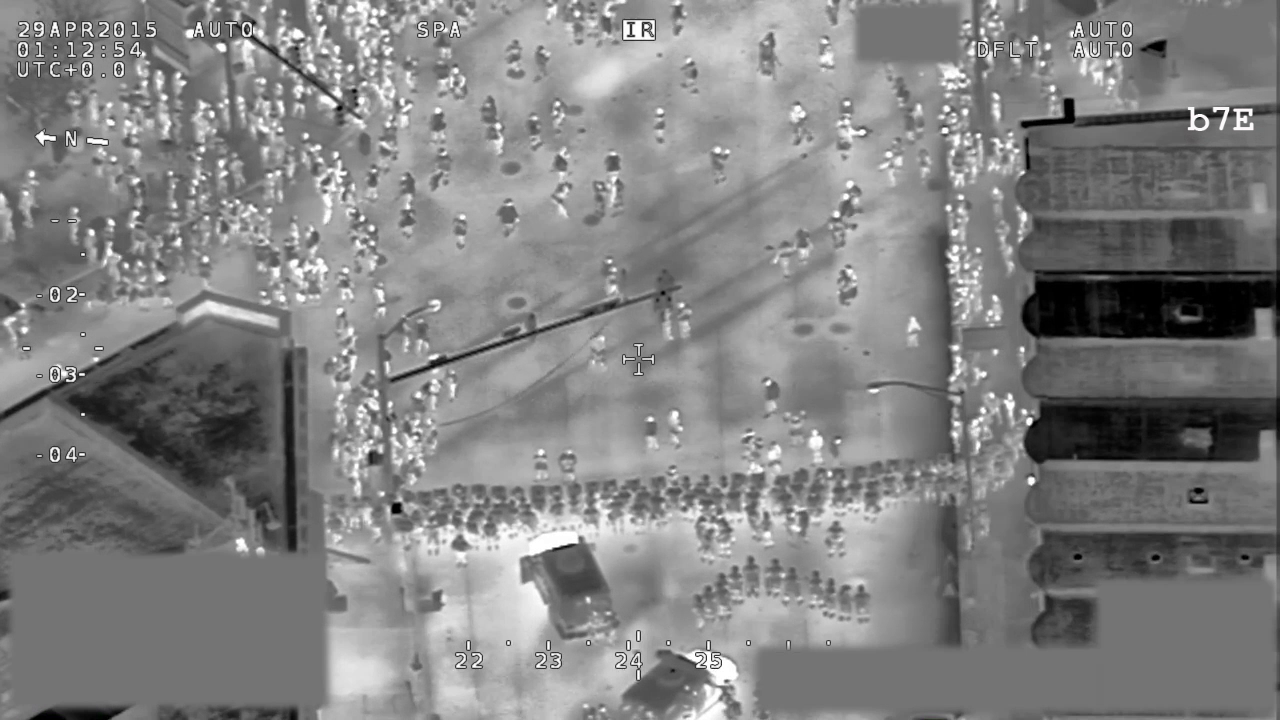vehicle: (514, 525, 626, 644), (618, 640, 742, 720)
